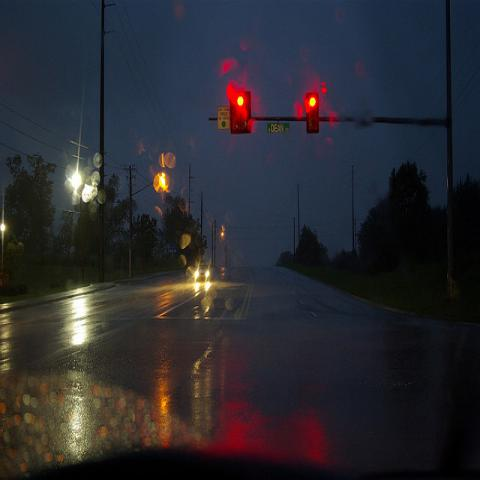car: (195, 264, 214, 280)
